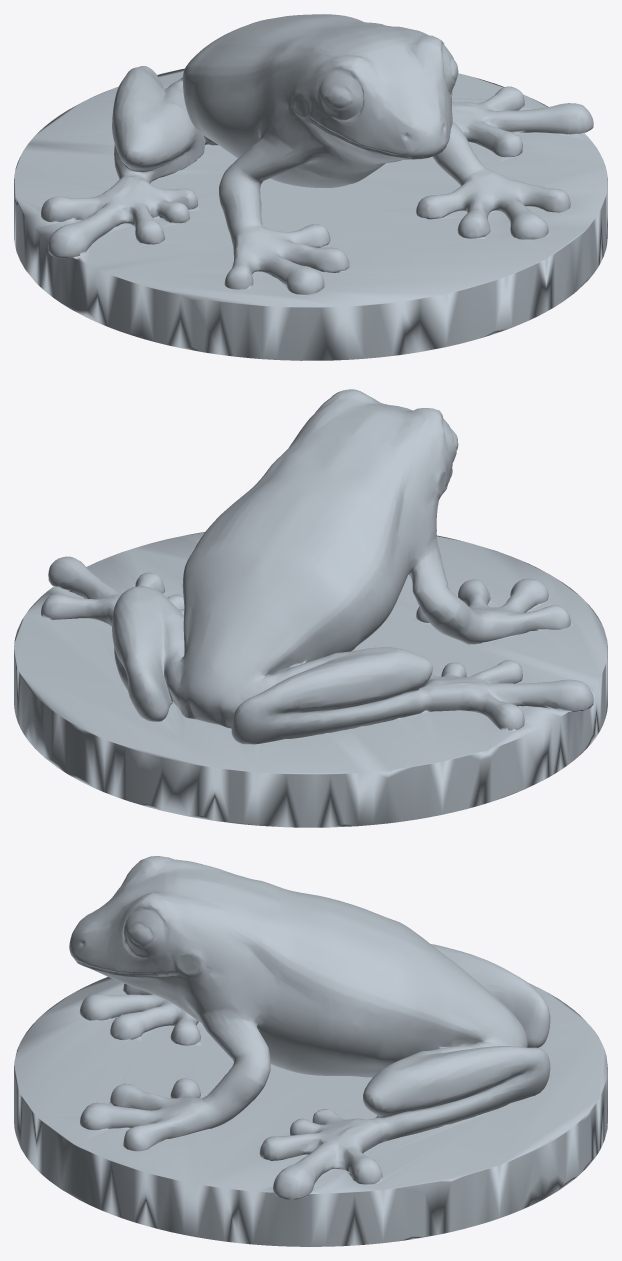
The model's file is giant-frog.glb.
The picture shows the model from 3 angles, top to bottom: view 1: azimuth 30°, elevation 25°; view 2: azimuth 150°, elevation 25°; view 3: azimuth 270°, elevation 25°; orthographic projection.
Visible parts, largest first — view 1: Giant_Frog.001; view 2: Giant_Frog.001; view 3: Giant_Frog.001.
Part boxes in pixels (<box>): Giant_Frog.001: <box>14,14,607,360</box>; Giant_Frog.001: <box>14,389,607,827</box>; Giant_Frog.001: <box>14,856,607,1246</box>.
Size of the model in its own units: 26.52 by 11.44 by 25.25.
1 material, 1 textured.
